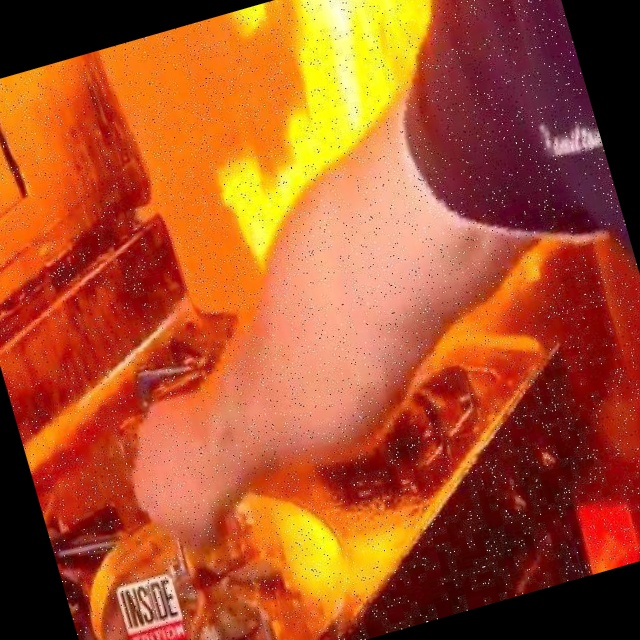fire: (175, 0, 495, 249), (201, 426, 418, 640)
